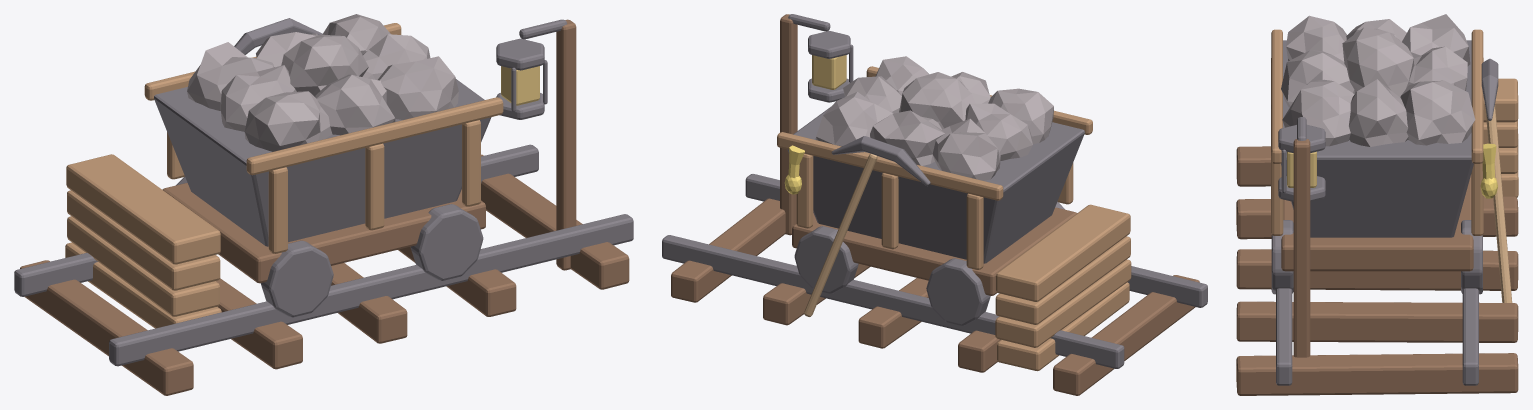
Rendered from Kit_LM_MineCart.fbx.
3 renders of one model, left to right at view 1: azimuth 30°, elevation 25°; view 2: azimuth 150°, elevation 25°; view 3: azimuth 270°, elevation 25°, orthographic. The views are drawn at different scales.
Visible parts, largest first — view 1: Kit_LM_MineCart; view 2: Kit_LM_MineCart; view 3: Kit_LM_MineCart.
Boxes of the visible parts, <box> form: Kit_LM_MineCart: <box>14,14,633,395</box>; Kit_LM_MineCart: <box>662,14,1207,395</box>; Kit_LM_MineCart: <box>1236,14,1518,395</box>.
Bounding box in the file's own units: 4.3 × 2 × 2.06.
